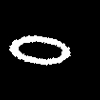chain: (9, 36, 70, 64)
